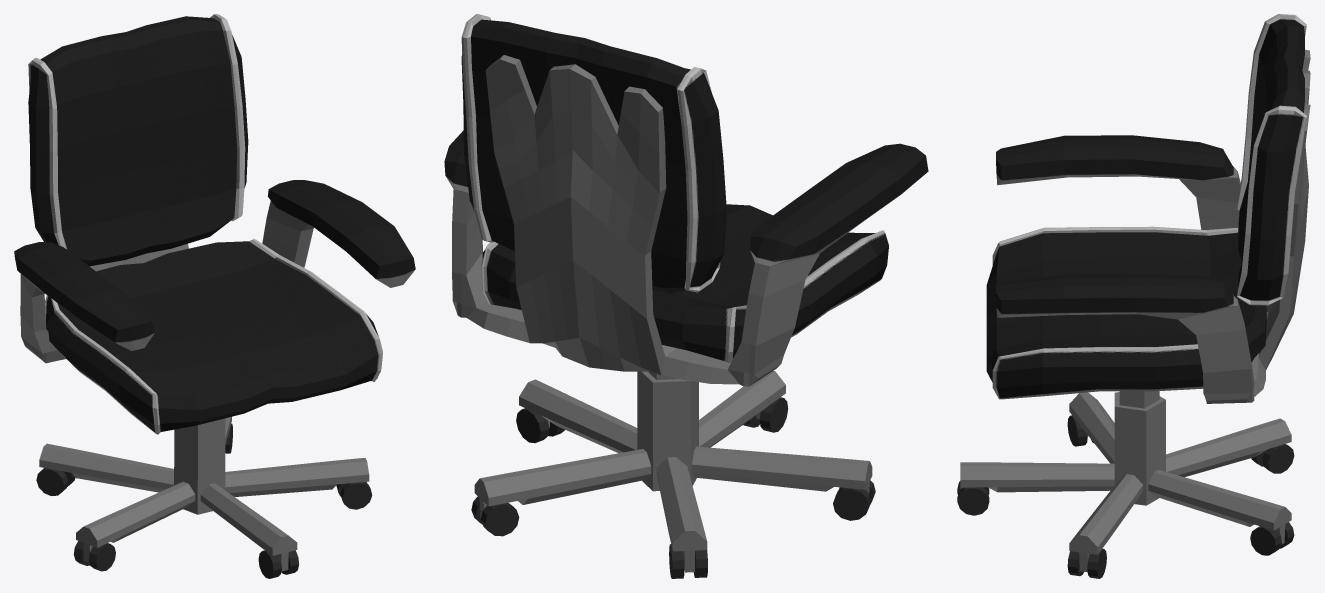
The model's file is Chair3.fbx.
3 views of the same model, side by side, from view 1: azimuth 30°, elevation 25°; view 2: azimuth 150°, elevation 25°; view 3: azimuth 270°, elevation 25° (orthographic). The views are drawn at different scales.
Parts seen in each view (by area): view 1: Chair3Baked; view 2: Chair3Baked; view 3: Chair3Baked.
Part boxes in pixels (x1,y1,x2,y2): Chair3Baked: [14, 14, 415, 578]; Chair3Baked: [444, 14, 928, 578]; Chair3Baked: [957, 14, 1310, 578].
Bounding box in the file's own units: 588 × 762 × 539.
